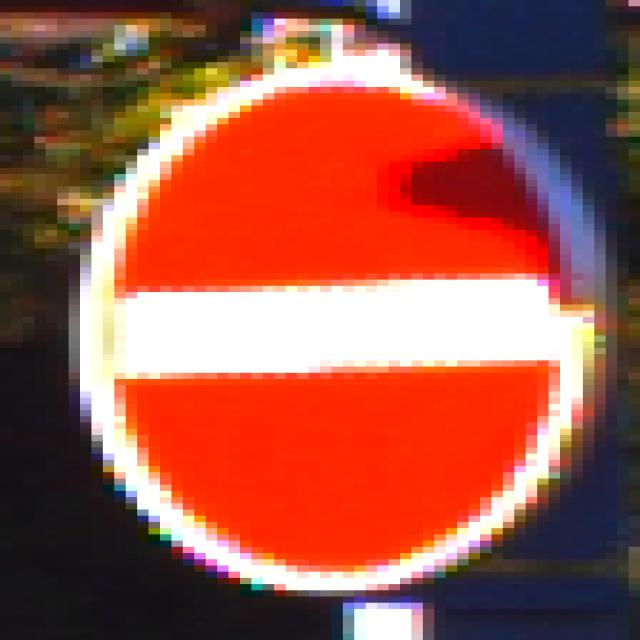No Entry: (69, 57, 584, 585)
